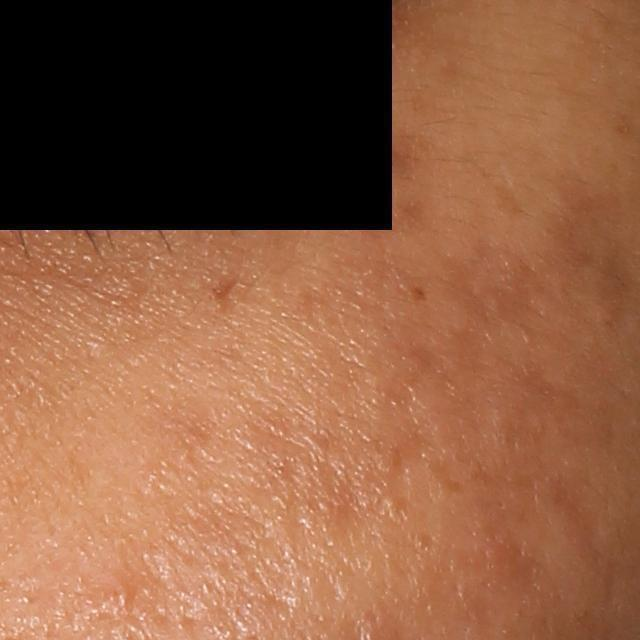comedo: (99, 570, 139, 606)
melasma: (336, 127, 436, 251), (203, 262, 246, 308), (490, 177, 526, 221)
